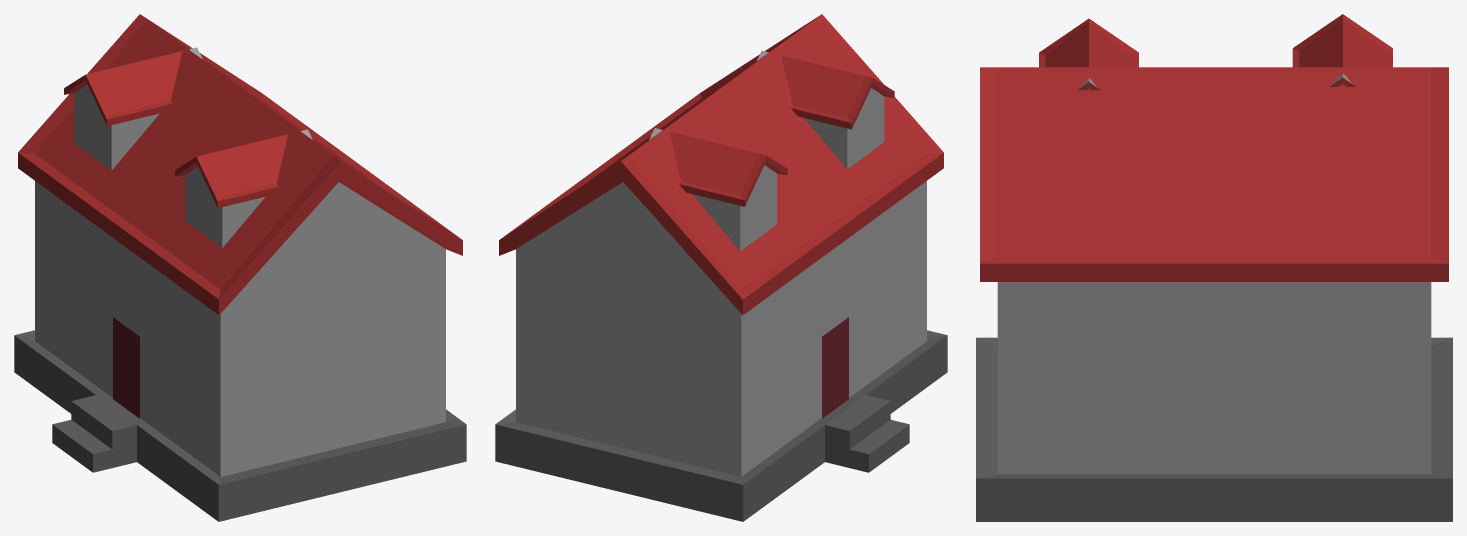
File: Casa2.fbx
3 views of the same model, side by side, from view 1: azimuth 30°, elevation 25°; view 2: azimuth 150°, elevation 25°; view 3: azimuth 270°, elevation 25° (orthographic). The views are drawn at different scales.
Parts seen in each view (by area): view 1: Casa2; view 2: Casa2; view 3: Casa2.
Boxes of the visible parts, x1,y1,x2,y2 form: Casa2: (14,14,466,521); Casa2: (495,14,947,521); Casa2: (976,14,1452,521).
Size of the model in its own units: 1.81 by 1.95 by 2.2.
